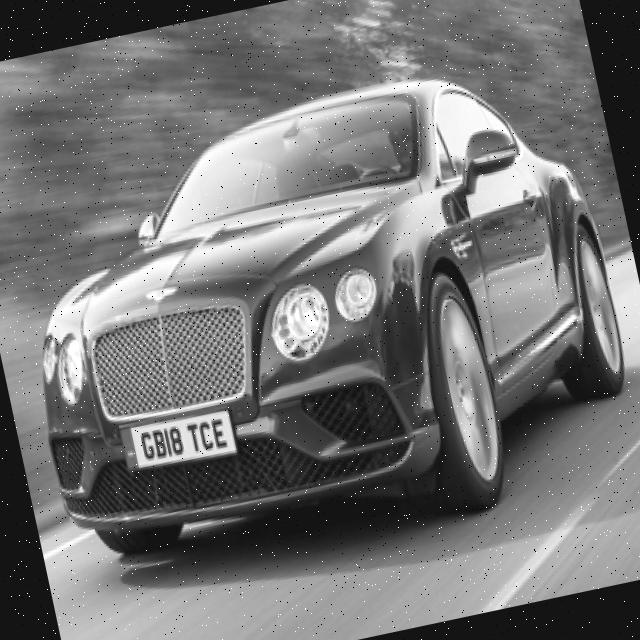Autre: (116, 402, 239, 470)
